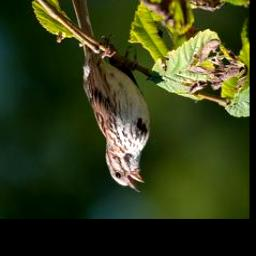Sparrow: (70, 0, 151, 194)
